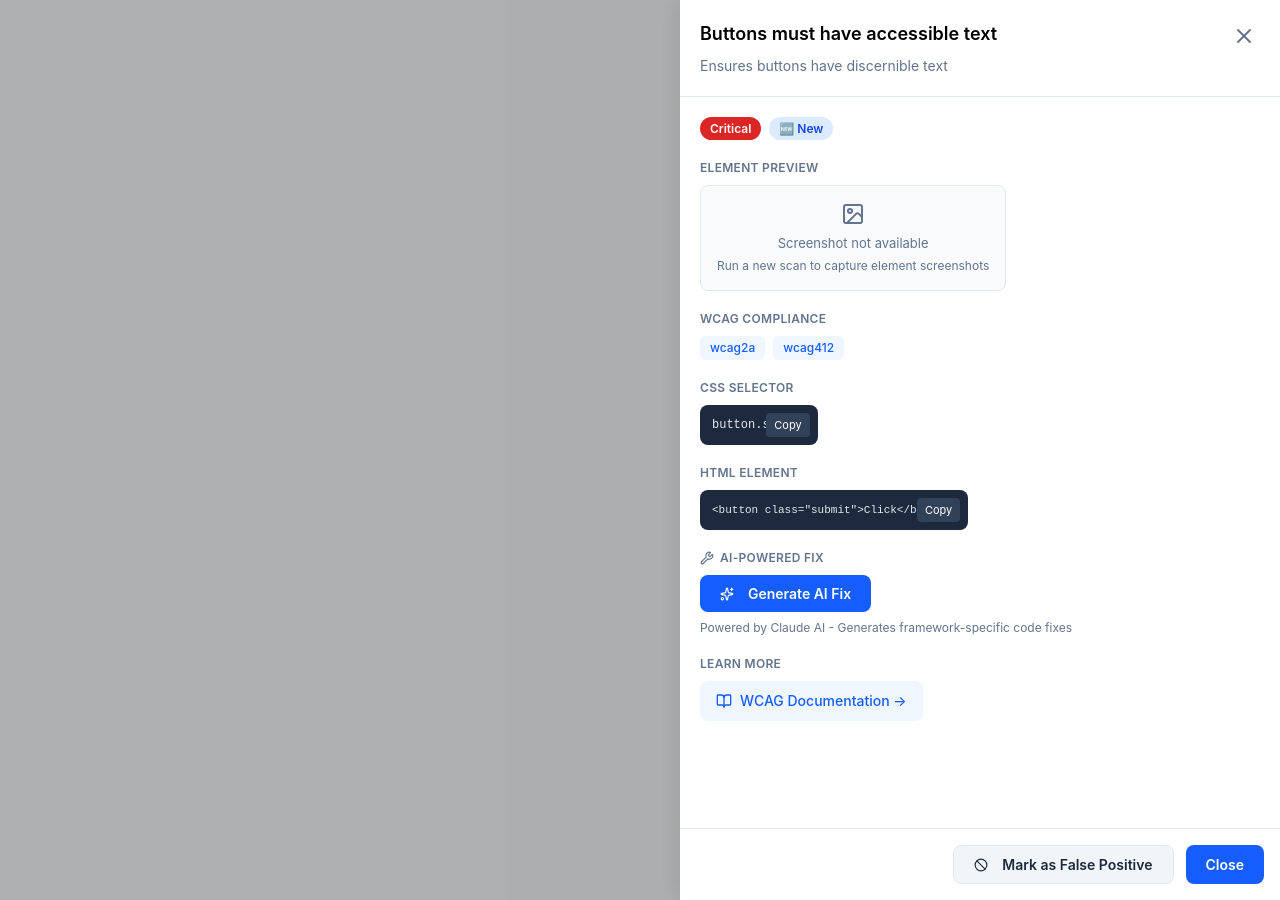
components/findings/FindingDetailsDrawer › displays false positive form when button clicked
The image size is (1280, 900).
Step 1. Click the button "Mark as False Positive" → x=1063, y=864, box [953,845,1174,884]
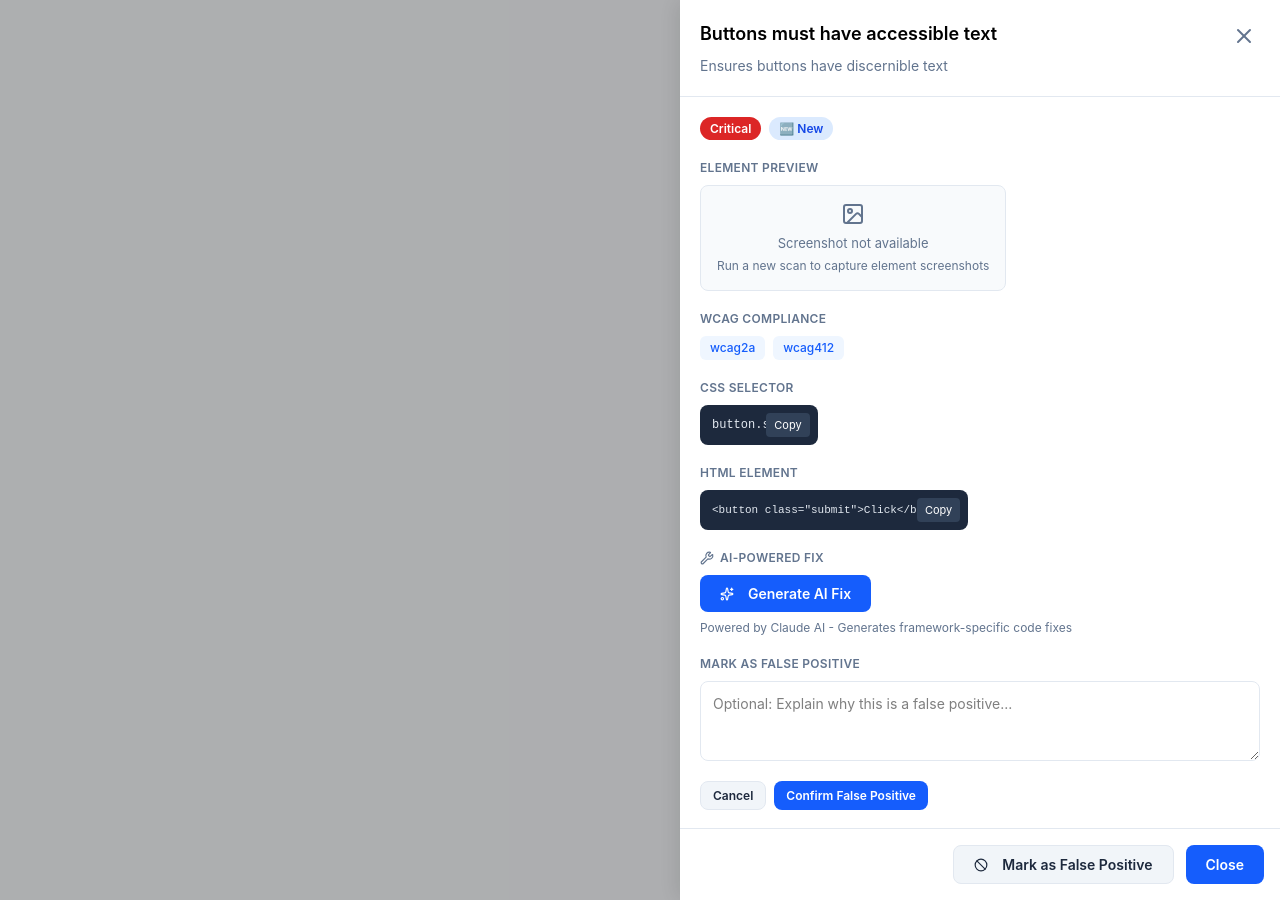
expect the text box with placeholder "Optional: Explain why this is a false positive..." is shown: met, box [700,681,1260,761]
